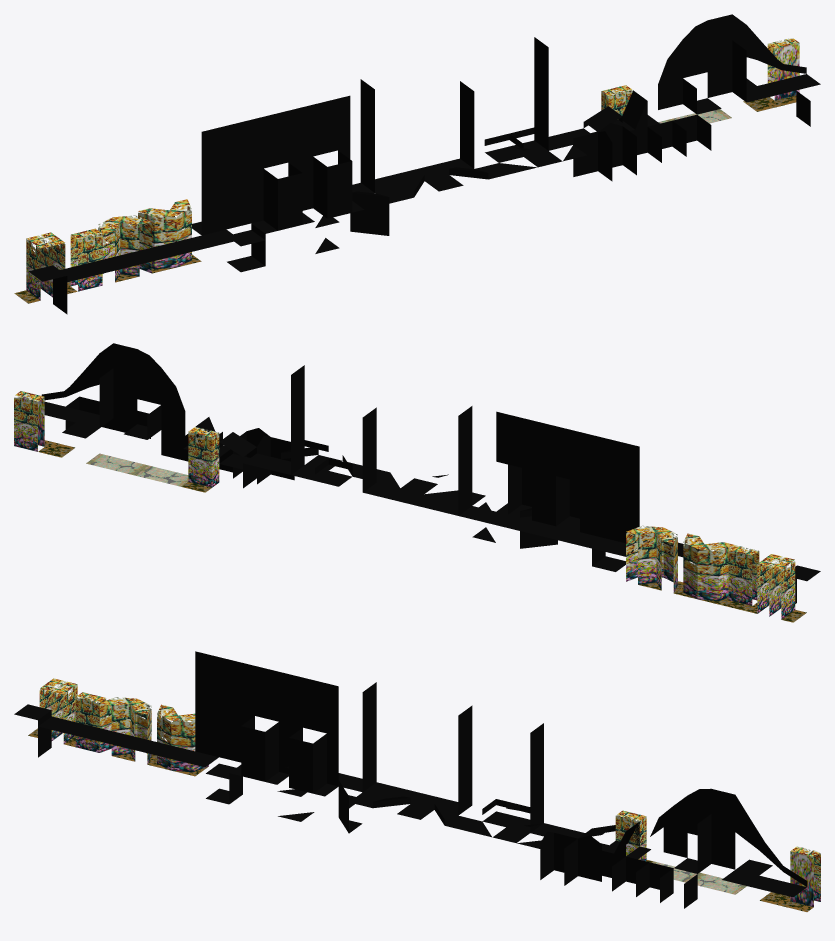
The model's file is catalog.obj.
3 renders of one model, top to bottom at view 1: azimuth 30°, elevation 25°; view 2: azimuth 150°, elevation 25°; view 3: azimuth 330°, elevation 25°, orthographic. The views are drawn at different scales.
Visible parts, largest first — view 1: cell_22_1, cell_20_1, cell_24_1, cell_3_1, cell_23_1, cell_19_1, cell_21_1, cell_10_1, cell_17_1, cell_5_1, cell_27_1, cell_9_0 (+22 smaller); view 2: cell_21_1, cell_23_1, cell_19_1, cell_3_1, cell_24_1, cell_20_1, cell_22_1, cell_7_2, cell_28_1, cell_25_1, cell_29_1, cell_0_2 (+19 smaller); view 3: cell_19_1, cell_21_1, cell_3_1, cell_24_1, cell_23_1, cell_22_1, cell_20_1, cell_17_1, cell_14_1, cell_10_1, cell_0_2, cell_8_0 (+22 smaller).
Boxes of the visible parts, left/top/right/bottom form: cell_22_1: left=251, top=114, right=290, bottom=230; cell_20_1: left=300, top=101, right=339, bottom=218; cell_24_1: left=192, top=126, right=226, bottom=235; cell_3_1: left=707, top=14, right=746, bottom=102; cell_23_1: left=226, top=120, right=251, bottom=229; cell_19_1: left=325, top=95, right=352, bottom=215; cell_21_1: left=276, top=107, right=302, bottom=227; cell_10_1: left=534, top=37, right=572, bottom=150; cell_17_1: left=360, top=79, right=399, bottom=192; cell_5_1: left=658, top=39, right=696, bottom=114; cell_27_1: left=113, top=215, right=151, bottom=279; cell_9_0: left=573, top=131, right=612, bottom=181; cell_21_1: left=530, top=423, right=579, bottom=539; cell_23_1: left=578, top=435, right=615, bottom=550; cell_19_1: left=482, top=411, right=531, bottom=527; cell_3_1: left=99, top=343, right=137, bottom=427; cell_24_1: left=602, top=441, right=639, bottom=556; cell_20_1: left=507, top=417, right=543, bottom=533; cell_22_1: left=554, top=429, right=591, bottom=544; cell_7_2: left=182, top=427, right=219, bottom=492; cell_28_1: left=697, top=542, right=734, bottom=604; cell_25_1: left=626, top=525, right=663, bottom=587; cell_29_1: left=722, top=545, right=759, bottom=610; cell_0_2: left=14, top=391, right=51, bottom=451; cell_19_1: left=301, top=680, right=351, bottom=793; cell_21_1: left=253, top=669, right=290, bottom=781; cell_3_1: left=697, top=789, right=735, bottom=873; cell_24_1: left=195, top=651, right=219, bottom=756; cell_23_1: left=219, top=657, right=242, bottom=762; cell_22_1: left=241, top=663, right=266, bottom=778; cell_20_1: left=289, top=674, right=314, bottom=790; cell_17_1: left=362, top=682, right=399, bottom=797; cell_14_1: left=437, top=705, right=472, bottom=815; cell_10_1: left=530, top=723, right=567, bottom=836; cell_0_2: left=783, top=846, right=820, bottom=911; cell_8_0: left=564, top=835, right=601, bottom=885.
Size of the model in its own units: 0.5 by 0.082 by 0.0469.
20 materials, 20 textured.
